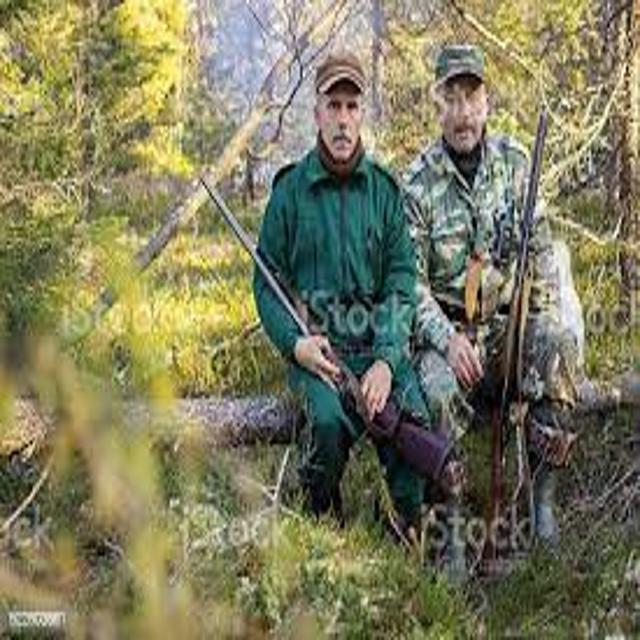gun: (178, 160, 481, 514), (452, 96, 590, 599)
ranger: (220, 37, 469, 572), (370, 27, 607, 576)
